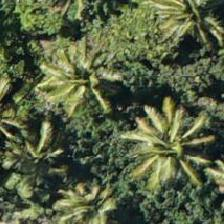coconut_tree: (11, 41, 101, 131), (111, 94, 201, 184), (44, 152, 134, 223), (139, 0, 223, 55)
